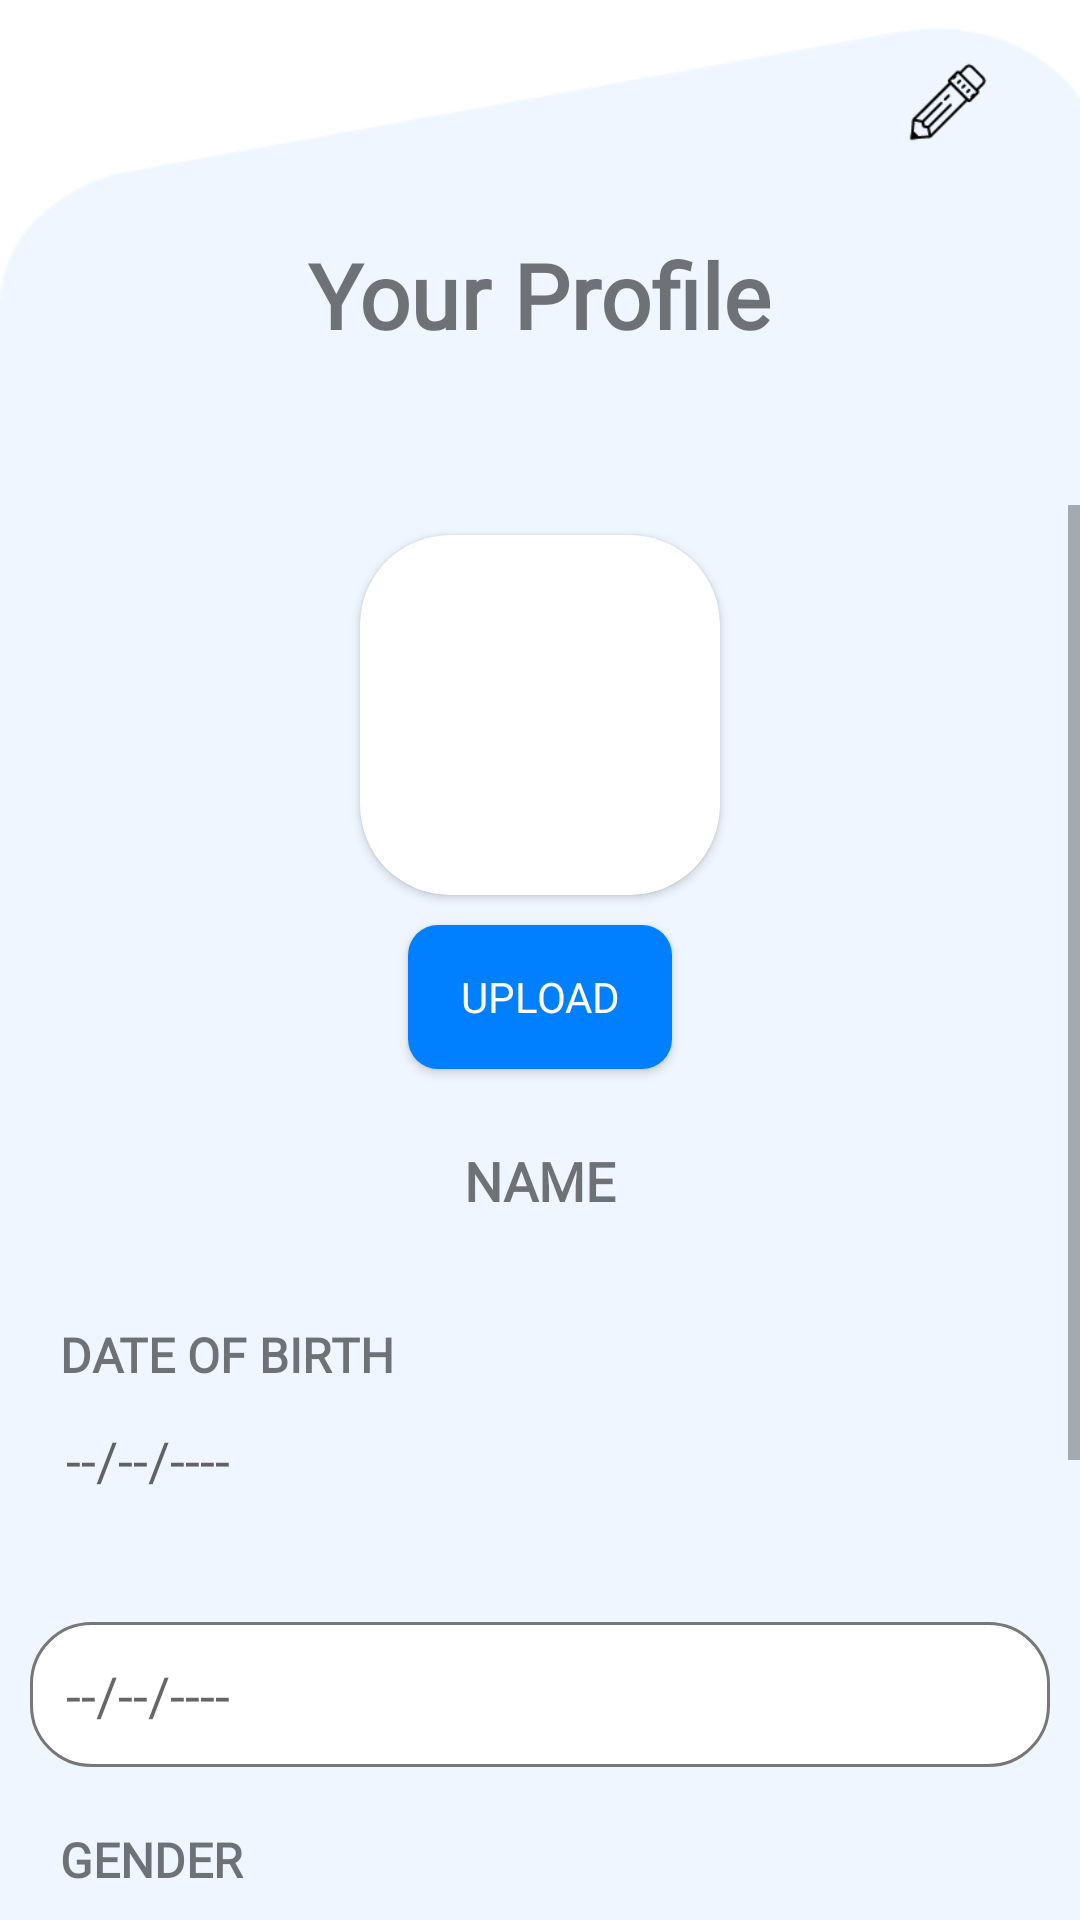

Named icons in this screenshot (1080 x 1920) and their centers, [x,y]:
edit: [947,102]
